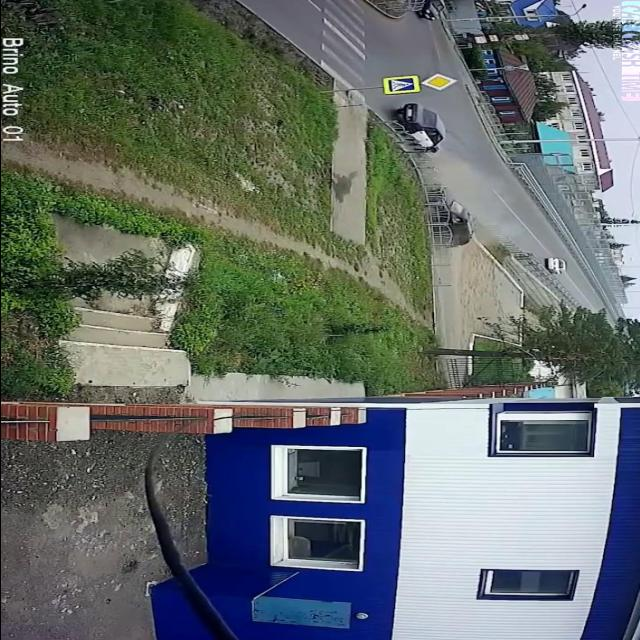accident: (387, 99, 480, 253)
